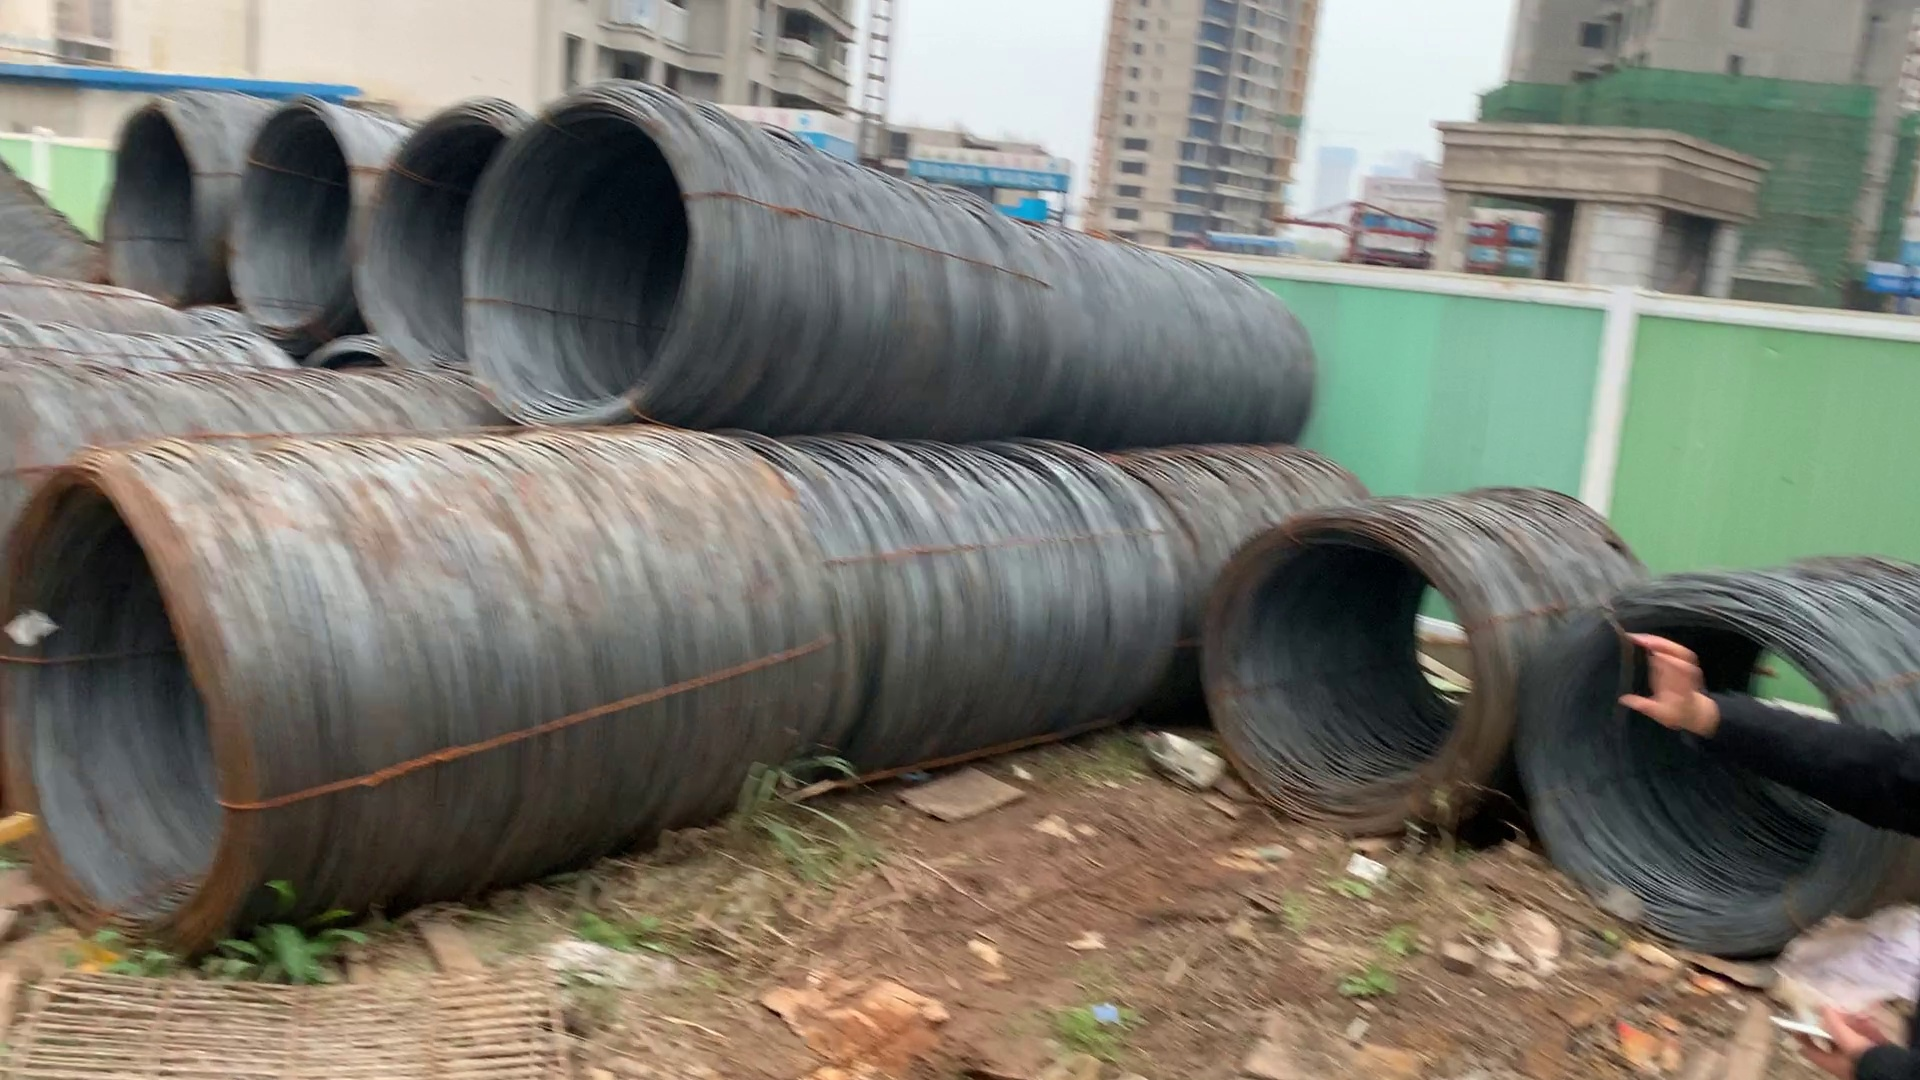coil: (1518, 585, 1894, 945), (7, 458, 265, 971), (1211, 513, 1510, 849), (465, 94, 709, 427), (360, 102, 513, 375), (229, 88, 353, 349), (84, 82, 215, 320)
